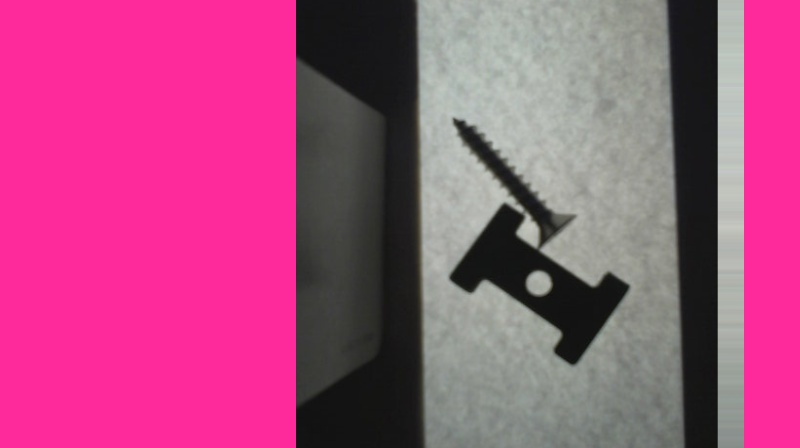O002: (452, 207, 630, 366)
S001: (447, 113, 580, 251)
